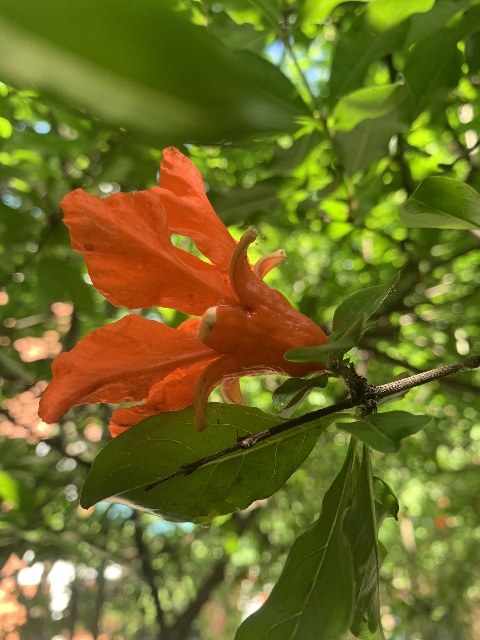flower: (38, 144, 323, 439)
